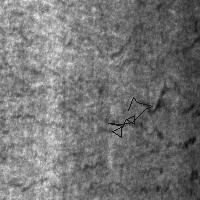crazing: (9, 84, 197, 198), (60, 20, 194, 69), (108, 97, 152, 137)
